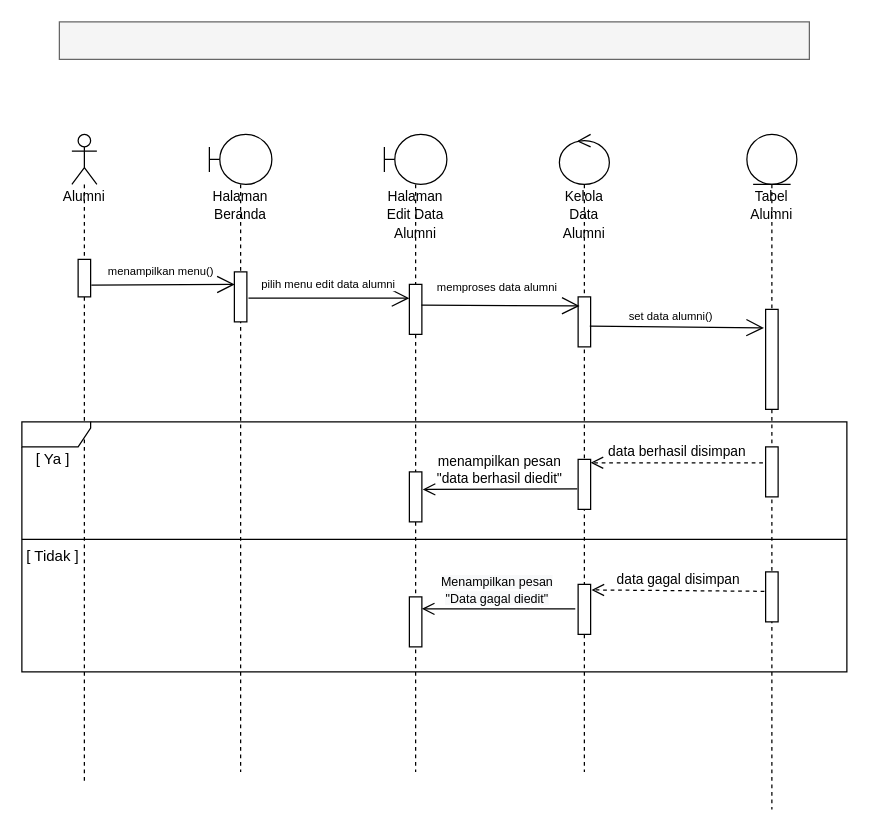
The diagram is 869 pixels wide and 831 high, and some of its shapes have lost their labels. Here are the shapes that lost their labels. From the top down, the box of each, then its label:
(58, 21, 809, 59): Mengedit Data Alumni
(21, 421, 847, 672): valid?
